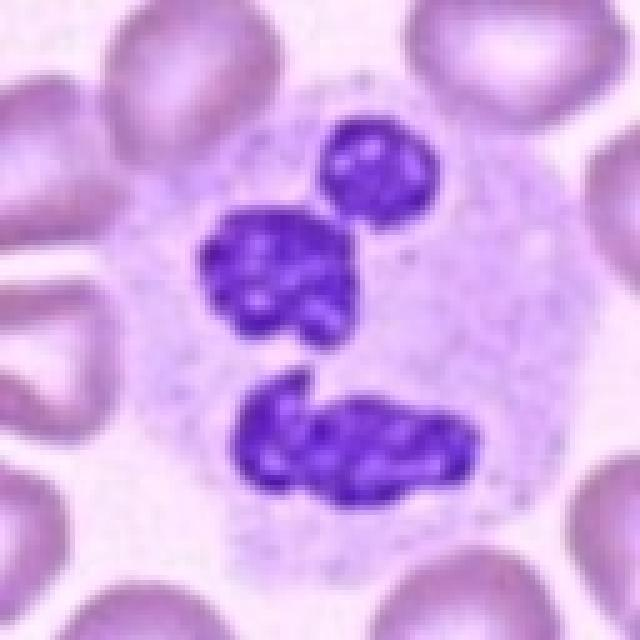neutro: (94, 174, 541, 614)
